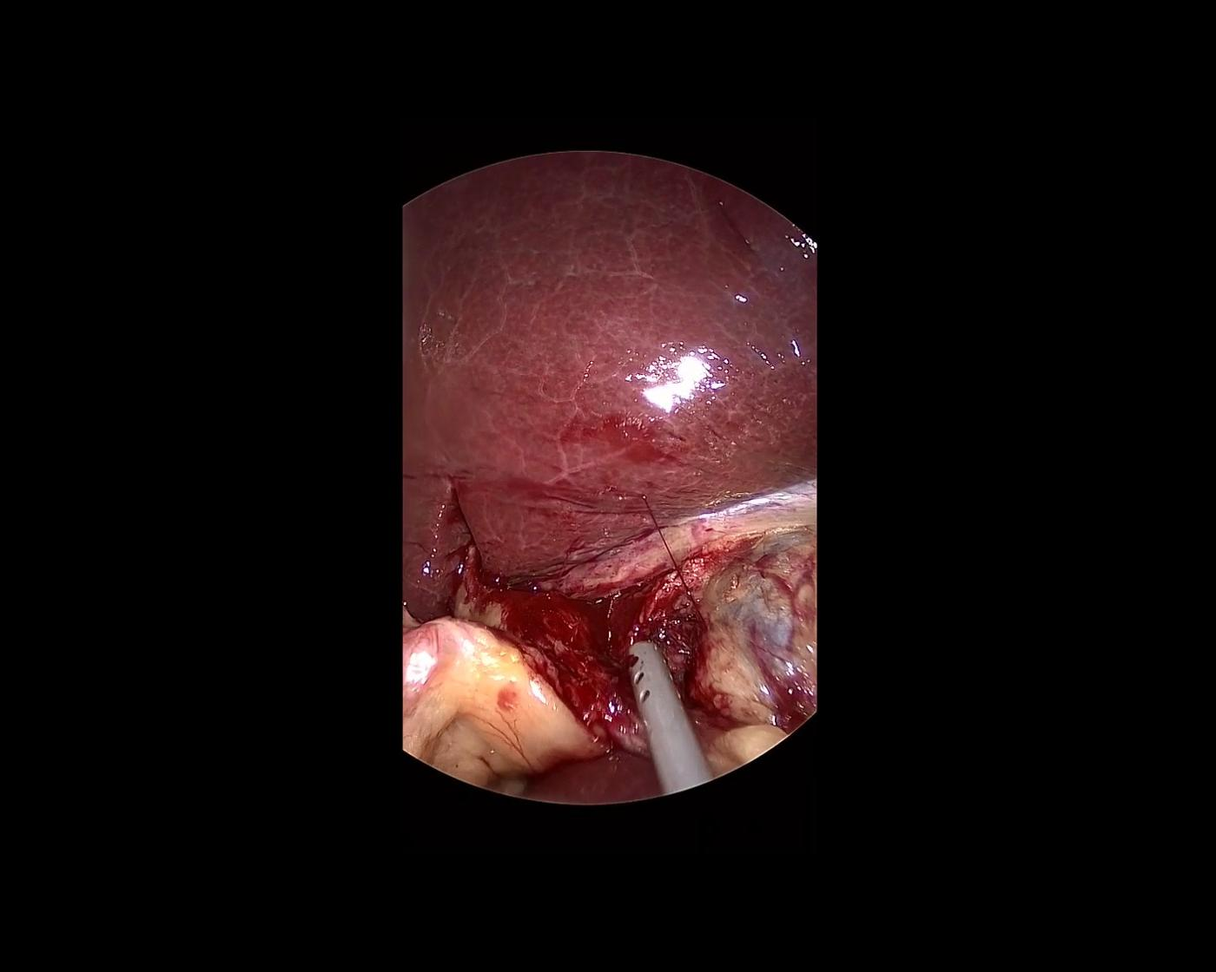Gallbladder: (678, 528, 817, 775)
Liver: (404, 153, 814, 626), (516, 750, 659, 808)
Suction: (605, 639, 712, 800)
